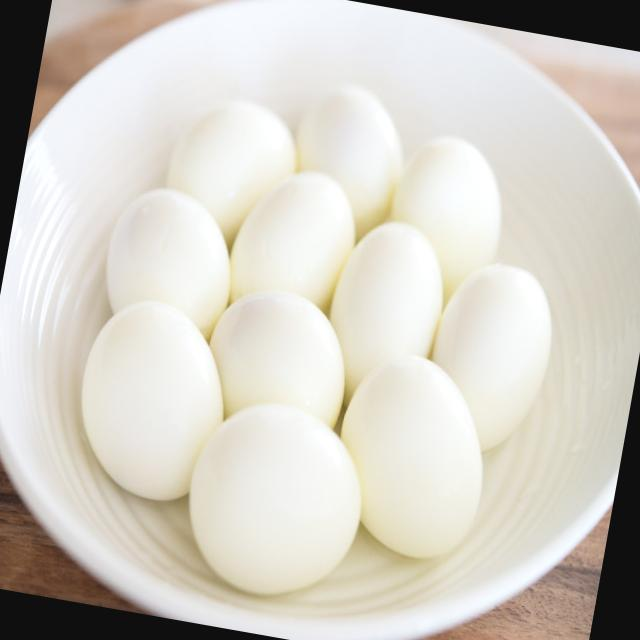trung luoc: (190, 403, 361, 594), (341, 356, 482, 558), (82, 301, 223, 500), (433, 263, 552, 451), (330, 222, 443, 404), (165, 101, 296, 244), (389, 136, 501, 300), (106, 189, 230, 334), (210, 290, 344, 424), (231, 171, 355, 307), (297, 86, 403, 238)
